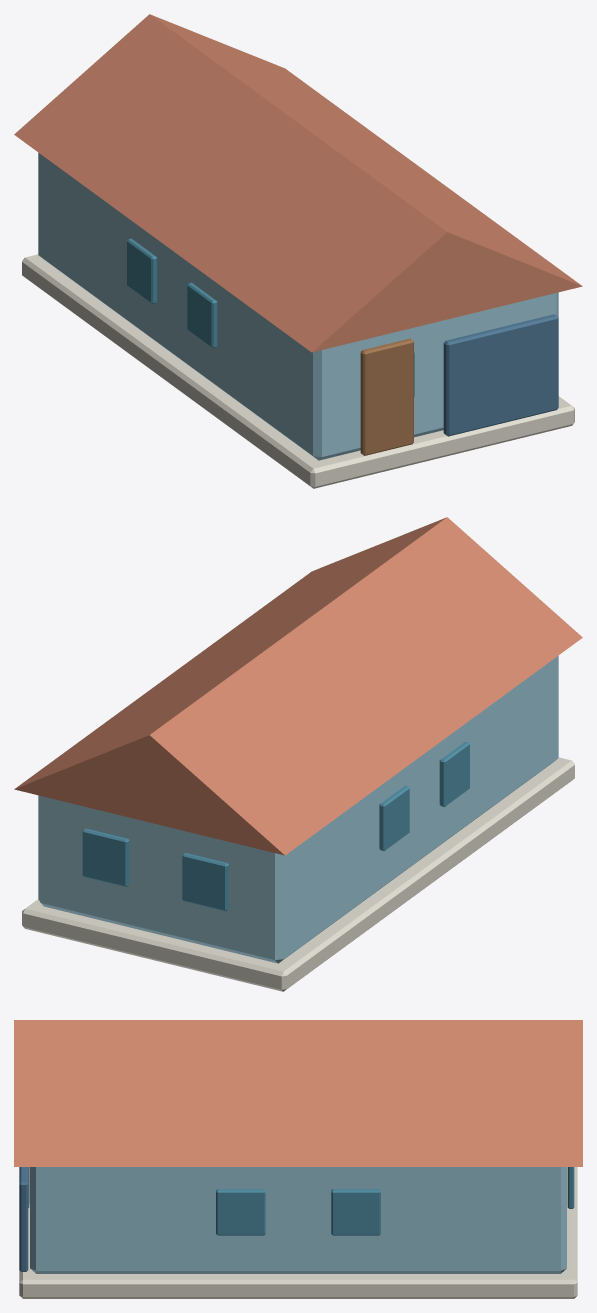
The model's file is RES_LOW_1x2_006.glb.
3 renders of one model, top to bottom at view 1: azimuth 30°, elevation 25°; view 2: azimuth 150°, elevation 25°; view 3: azimuth 270°, elevation 25°, orthographic. The views are drawn at different scales.
Visible parts, largest first — view 1: RES_LOW_1x2_006_Visual; view 2: RES_LOW_1x2_006_Visual; view 3: RES_LOW_1x2_006_Visual.
Boxes of the visible parts, left/top/right/bottom form: RES_LOW_1x2_006_Visual: left=14, top=14, right=582, bottom=488; RES_LOW_1x2_006_Visual: left=14, top=517, right=582, bottom=991; RES_LOW_1x2_006_Visual: left=14, top=1020, right=582, bottom=1298.
Size of what is drawn, in the model's own units: 1.69 by 1.36 by 3.21.
